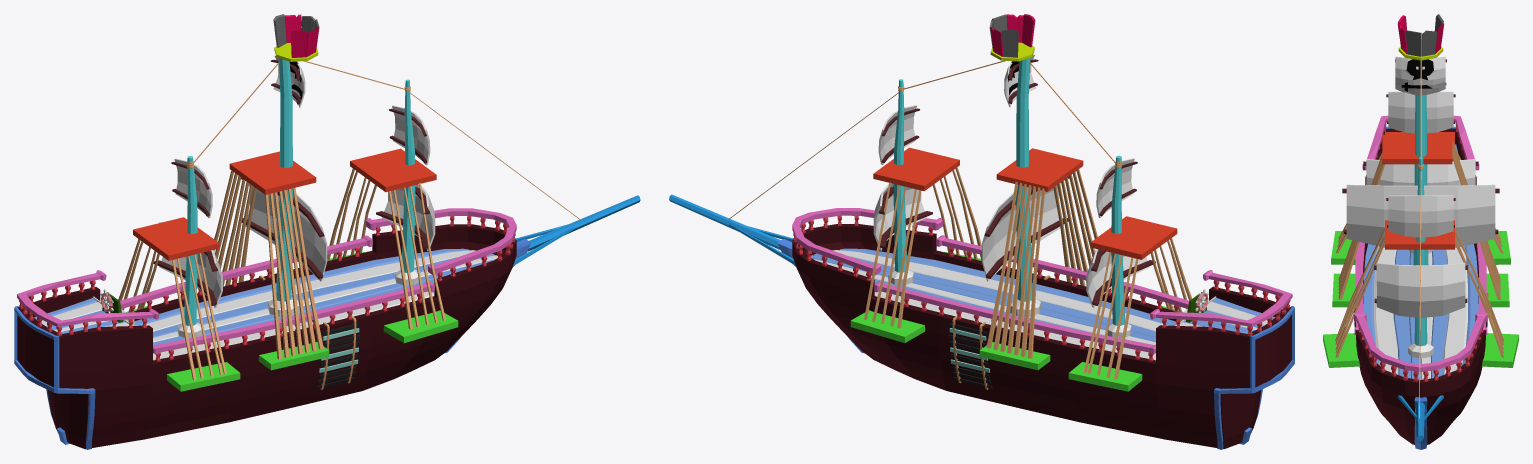
File: Pirate Ship.fbx
The picture shows the model from 3 angles, left to right: view 1: azimuth 30°, elevation 25°; view 2: azimuth 150°, elevation 25°; view 3: azimuth 270°, elevation 25°; orthographic projection. The views are drawn at different scales.
Parts seen in each view (by area): view 1: Pirate Ship; view 2: Pirate Ship; view 3: Pirate Ship.
Boxes of the visible parts, left/top/right/bottom form: Pirate Ship: left=14, top=14, right=640, bottom=449; Pirate Ship: left=669, top=14, right=1294, bottom=449; Pirate Ship: left=1323, top=14, right=1518, bottom=449.
Size of the model in its own units: 43.47 by 24.96 by 12.37.
